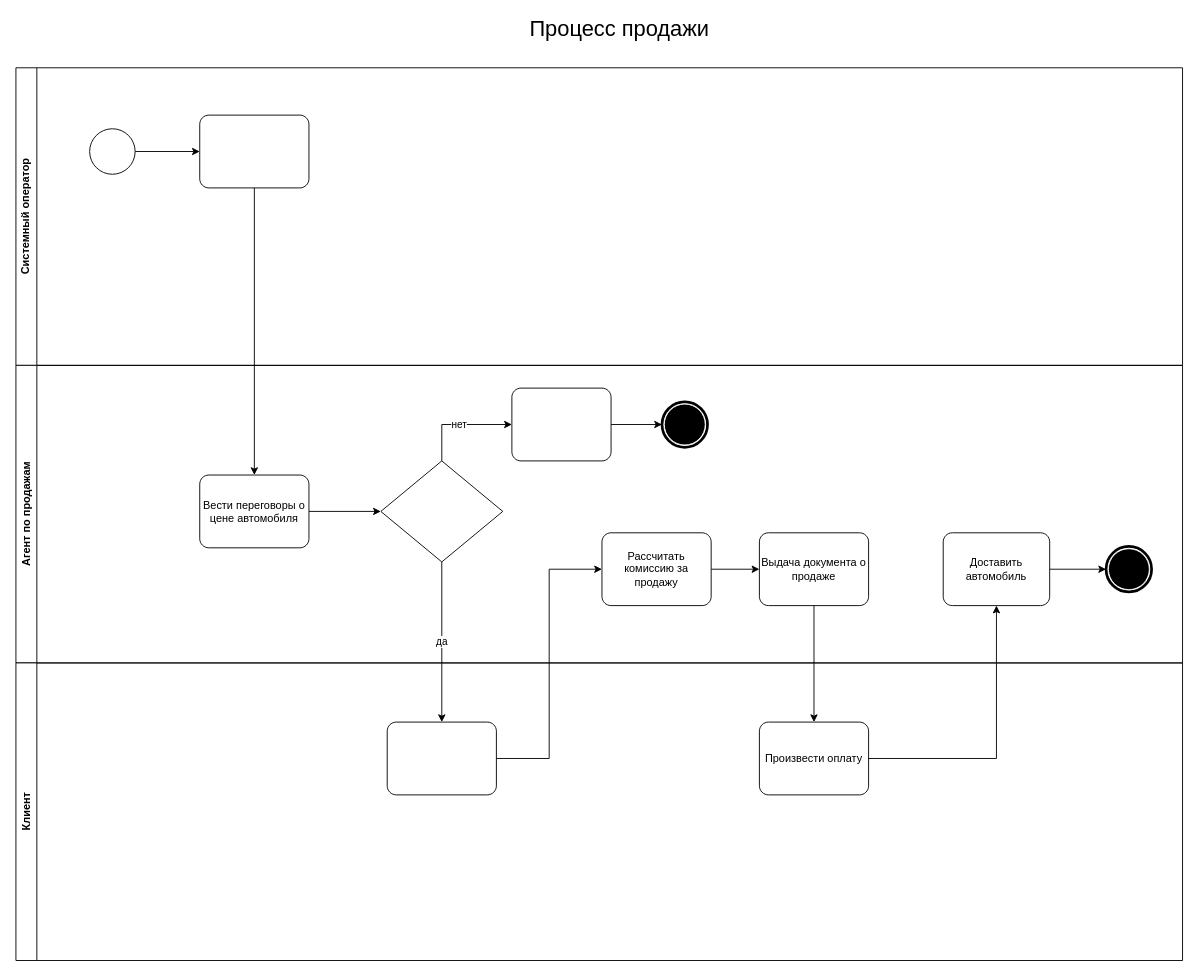
Image size: 1198x976. Some labels were removed from this diagram. The shapes that lost their labels are listed below. From the top down, each one's centre as x and y in pixels, then its label:
At point 254,151: "Зарегистрировать автомобиль".
At point 561,424: "Отменить операцию".
At point 441,511: "Находится ли цена в пределах ранг?".
At point 441,758: "Подписать договор купли-продажи".
